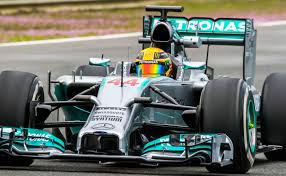FormulaOneCar: (2, 4, 286, 175)
